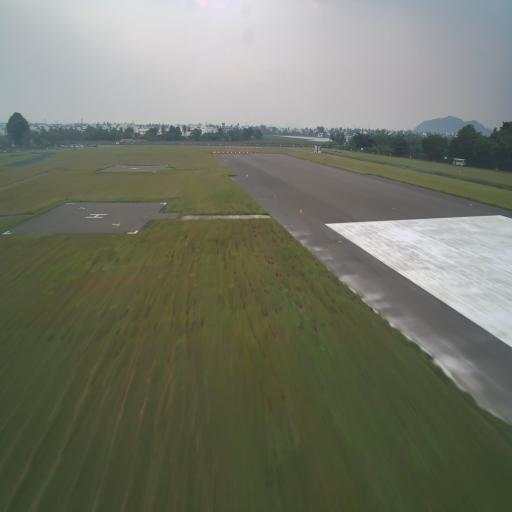off: (337, 236, 343, 247), (391, 206, 395, 212), (273, 194, 277, 199), (424, 190, 426, 194)
on: (298, 208, 302, 215), (246, 172, 248, 178), (224, 159, 227, 163), (470, 202, 473, 206), (358, 172, 360, 176), (238, 151, 240, 155), (214, 151, 216, 154), (218, 151, 220, 154), (222, 151, 224, 154), (230, 151, 232, 154), (226, 151, 228, 153), (307, 159, 308, 162), (235, 151, 236, 154), (243, 151, 244, 154), (255, 151, 256, 154), (213, 152, 214, 154), (247, 152, 248, 154), (251, 152, 252, 154), (259, 152, 260, 154), (263, 152, 264, 154)
